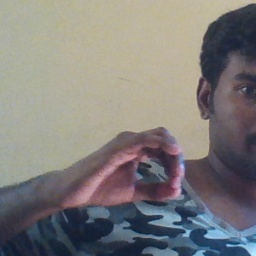O: (58, 124, 187, 211)
